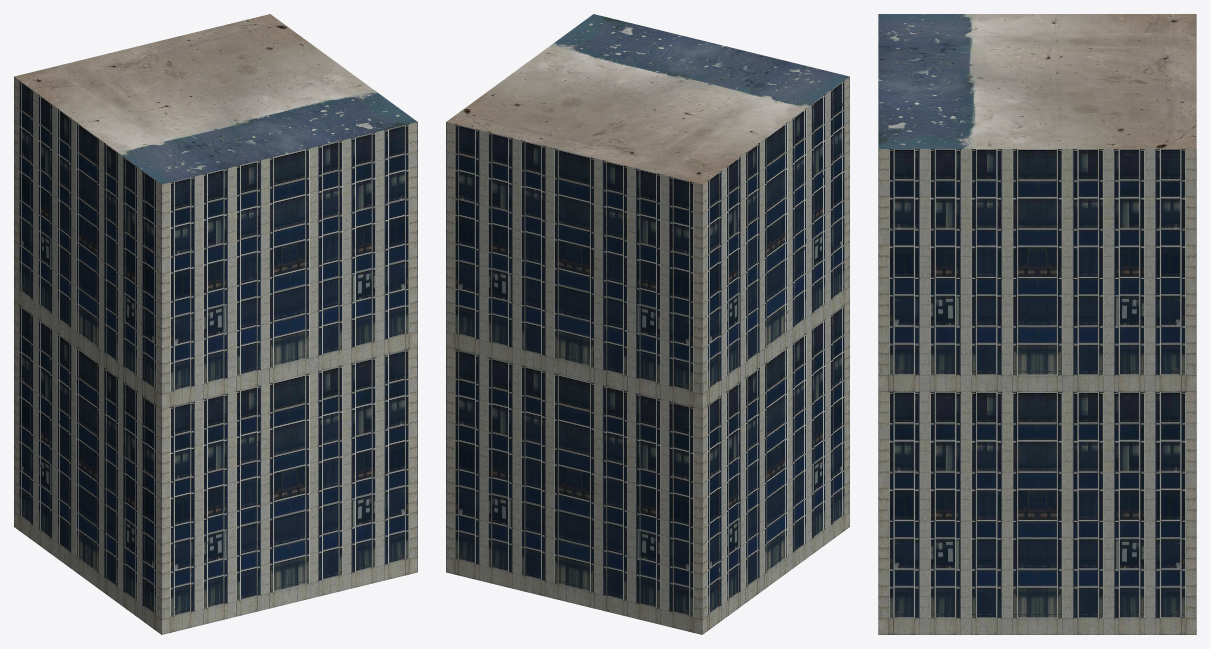
Rendered from BagSS02mid_0.fbx.
3 renders of one model, left to right at view 1: azimuth 30°, elevation 25°; view 2: azimuth 150°, elevation 25°; view 3: azimuth 270°, elevation 25°, orthographic. The views are drawn at different scales.
Parts seen in each view (by area): view 1: midBox0, midRoof0; view 2: midBox0, midRoof0; view 3: midBox0, midRoof0.
Boxes of the visible parts, x1,y1,x2,y2 form: midBox0: (14,76,417,634); midRoof0: (14,14,417,184); midBox0: (446,76,849,634); midRoof0: (446,14,849,184); midBox0: (878,149,1196,634); midRoof0: (878,14,1196,148).
Bounding box in the file's own units: 37.5 × 63 × 37.4.
